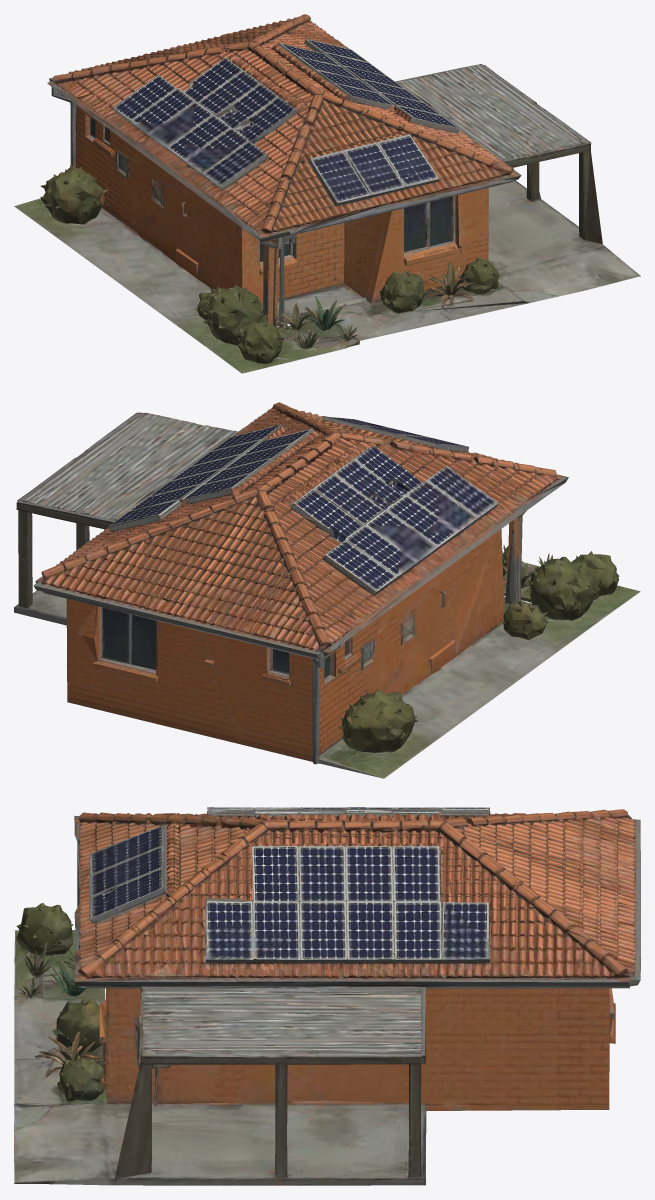
Rendered from solar_house.glb.
3 renders of one model, top to bottom at view 1: azimuth 30°, elevation 25°; view 2: azimuth 150°, elevation 25°; view 3: azimuth 270°, elevation 25°, orthographic. The views are drawn at different scales.
Size of the model in its own units: 1.82 by 0.7466 by 1.9.
1 material, 1 textured.
